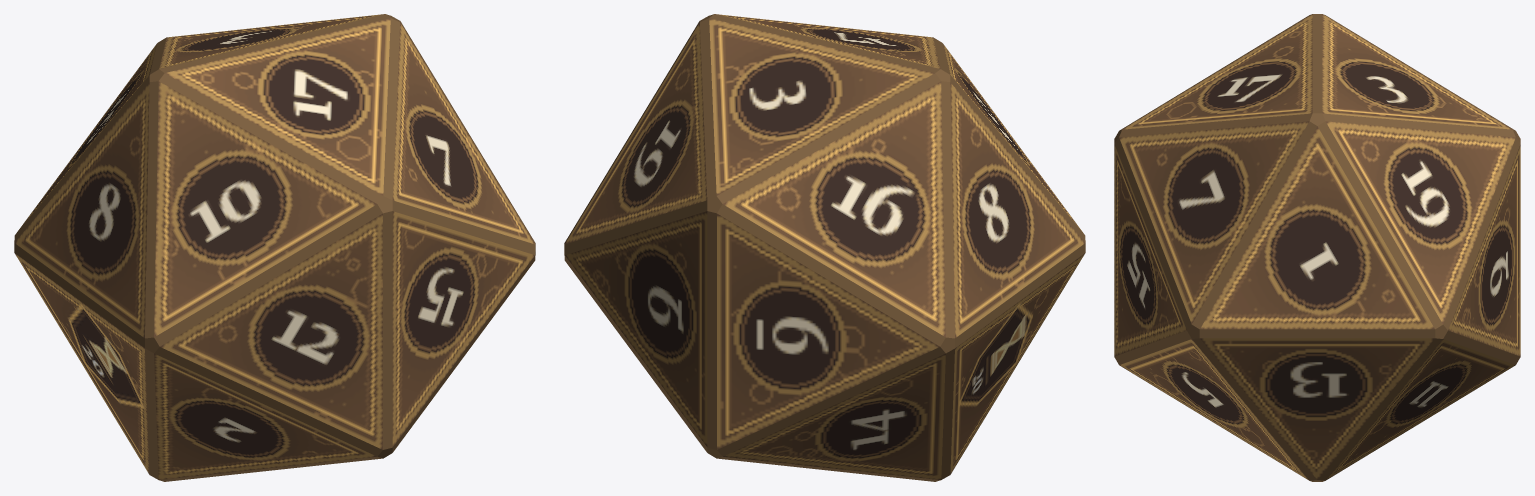
3 views of the same model, side by side, from view 1: azimuth 30°, elevation 25°; view 2: azimuth 150°, elevation 25°; view 3: azimuth 270°, elevation 25° (orthographic). The views are drawn at different scales.
Size of the model in its own units: 160 by 160 by 160.
Materials: 1 (1 with a texture image).
